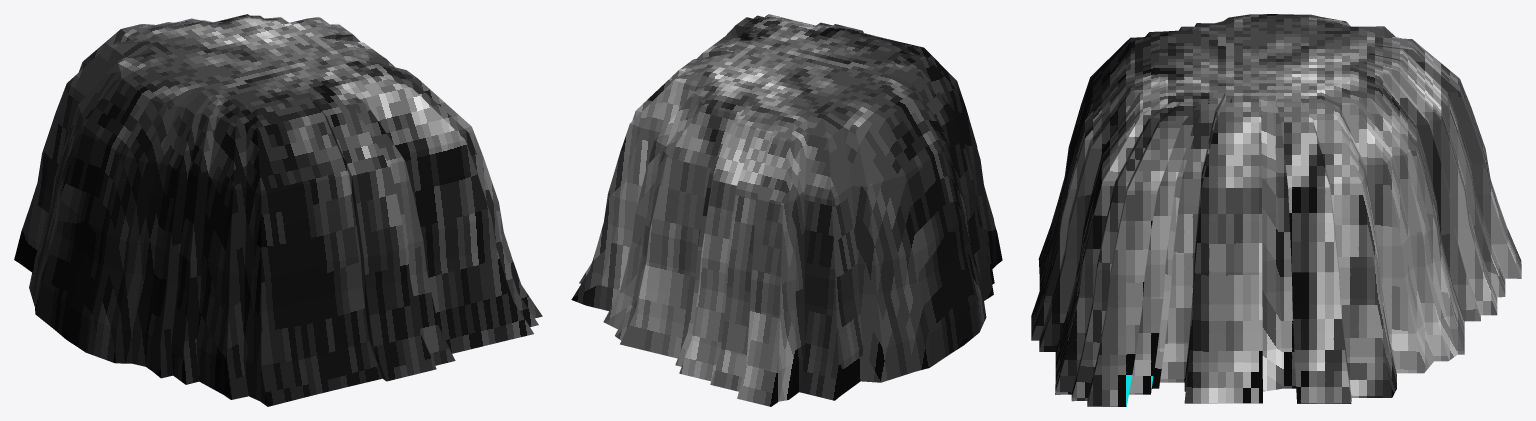
Rendered from boulder_343x2.gltf.
3 views of the same model, side by side, from view 1: azimuth 30°, elevation 25°; view 2: azimuth 150°, elevation 25°; view 3: azimuth 270°, elevation 25° (orthographic). The views are drawn at different scales.
Visible parts, largest first — view 1: Boulder_343x2; view 2: Boulder_343x2; view 3: Boulder_343x2.
Part boxes in pixels (x1,y1,x2,y2): Boulder_343x2: [14, 14, 542, 406]; Boulder_343x2: [571, 14, 1002, 406]; Boulder_343x2: [1031, 14, 1521, 406].
Bounding box in the file's own units: 4.27 × 2.59 × 4.68.
Materials: 1 (1 with a texture image).
